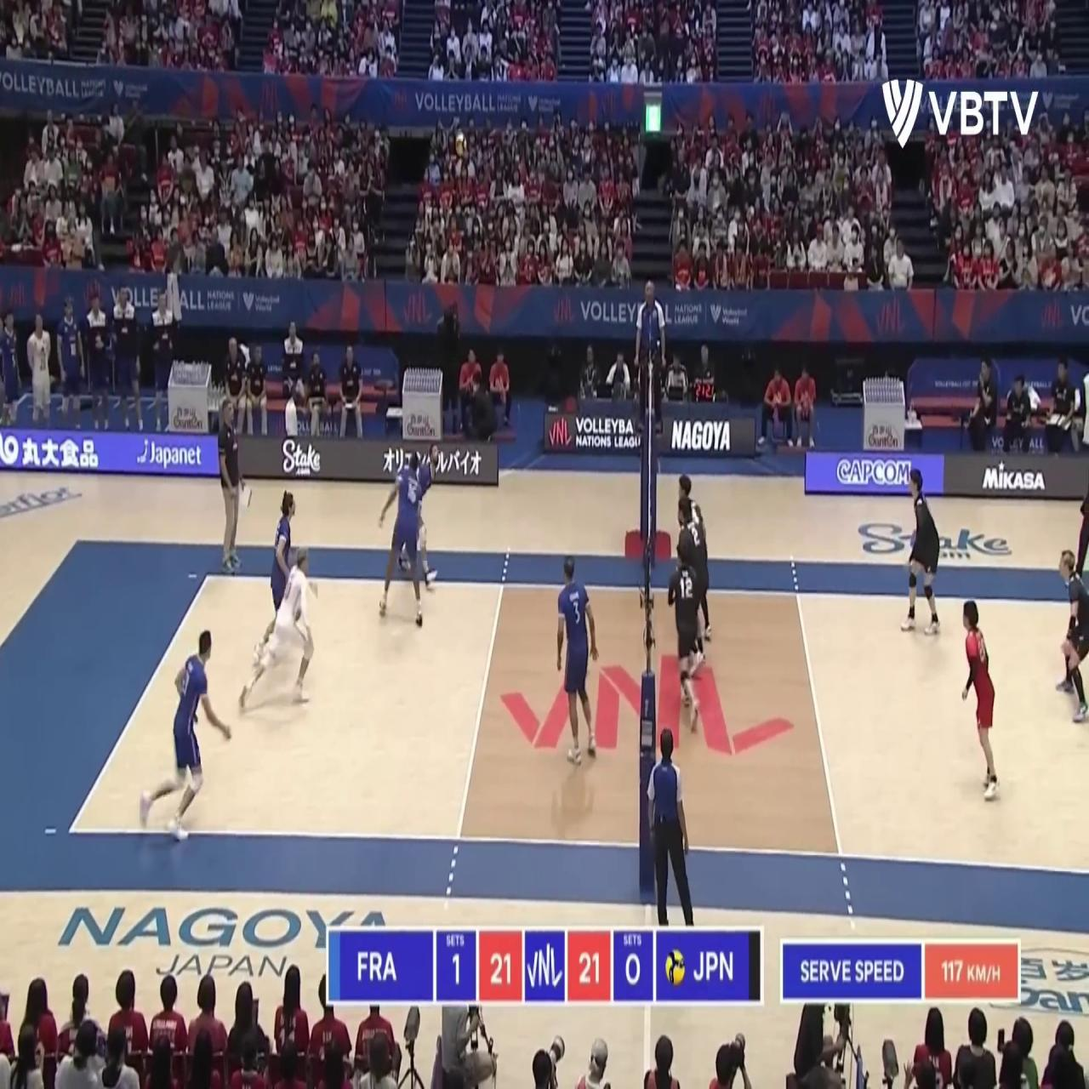ball: (455, 133, 467, 155)
